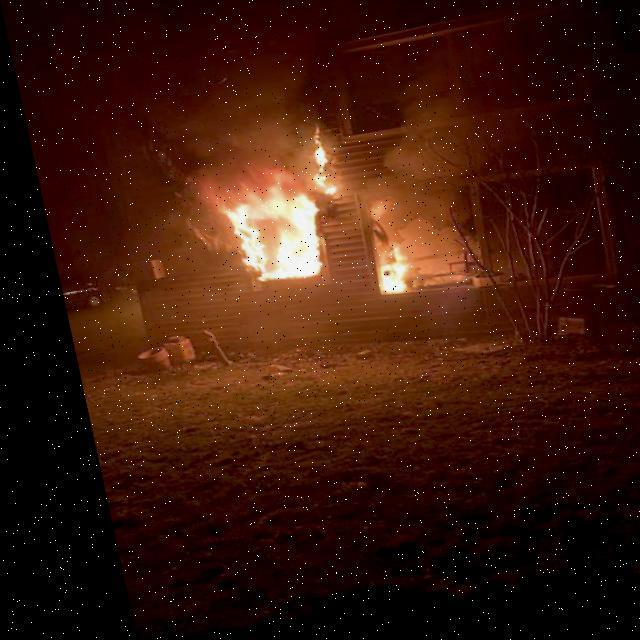Fire: (212, 175, 312, 292), (294, 130, 332, 206), (358, 246, 405, 304)
